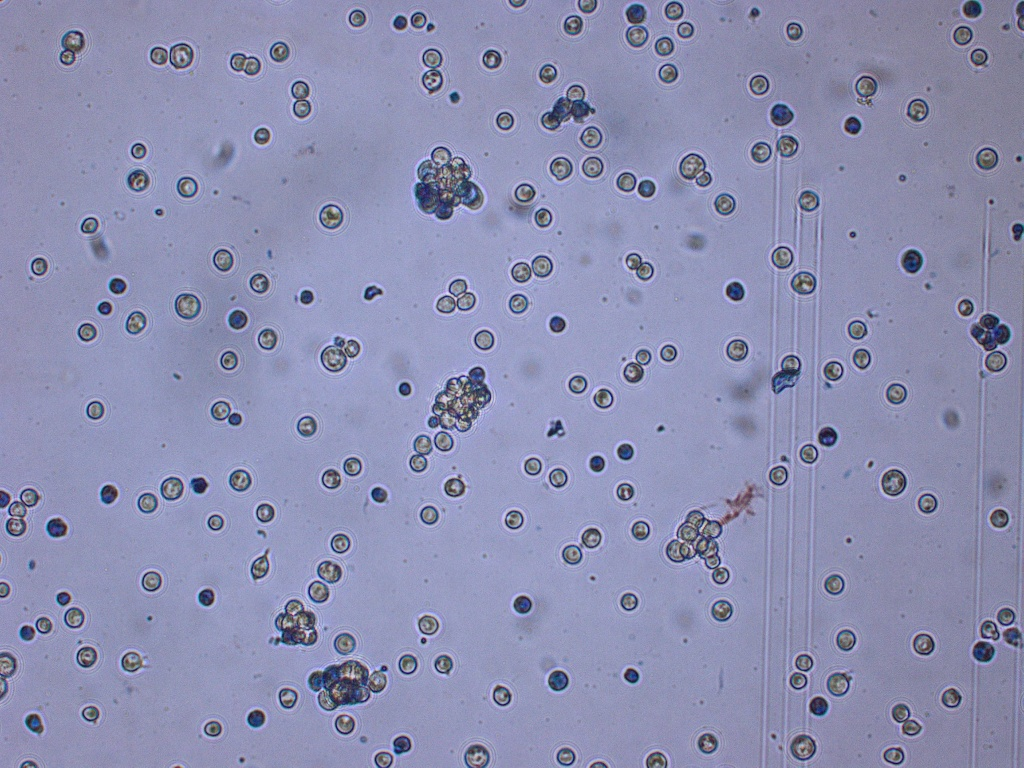Aggregate: (411, 144, 486, 222), (426, 366, 493, 433), (308, 660, 387, 714), (662, 507, 725, 568), (274, 598, 320, 649), (539, 97, 596, 131)
Alive: (320, 346, 346, 372), (790, 735, 816, 760), (882, 469, 906, 496), (169, 43, 193, 69), (175, 294, 201, 318), (679, 154, 703, 178), (161, 476, 185, 500), (791, 270, 814, 295), (319, 204, 342, 228), (770, 246, 794, 269), (827, 672, 850, 696), (625, 24, 648, 47), (725, 339, 749, 361), (127, 170, 150, 192), (976, 148, 999, 170), (229, 469, 252, 491), (582, 156, 604, 178), (465, 746, 488, 767), (421, 48, 443, 69), (750, 141, 771, 163), (714, 192, 735, 214), (797, 189, 819, 210), (985, 351, 1007, 372), (330, 533, 352, 554), (126, 310, 146, 333), (914, 634, 934, 657), (856, 76, 878, 96), (907, 100, 929, 120), (76, 646, 96, 668), (335, 633, 355, 655), (308, 581, 330, 601), (778, 135, 797, 158), (317, 562, 341, 580), (215, 247, 232, 272), (63, 29, 83, 50), (481, 49, 502, 69), (582, 127, 603, 147), (823, 361, 843, 382), (712, 599, 732, 620), (433, 431, 454, 451), (418, 615, 439, 635), (552, 157, 571, 179), (121, 652, 143, 671), (278, 687, 297, 709), (563, 545, 583, 565), (491, 685, 511, 705), (886, 383, 905, 404), (837, 630, 856, 651), (582, 526, 601, 547), (65, 607, 84, 628), (259, 327, 276, 350), (370, 669, 387, 692), (177, 178, 197, 197), (532, 256, 552, 275), (953, 25, 972, 45), (941, 687, 961, 706), (138, 493, 158, 512), (335, 714, 355, 733), (699, 734, 719, 753), (422, 71, 443, 89), (624, 362, 642, 383), (251, 556, 269, 577), (513, 184, 536, 200), (150, 46, 169, 65), (78, 322, 97, 341), (298, 417, 317, 436), (749, 75, 768, 94), (505, 510, 524, 529), (549, 469, 568, 488), (420, 505, 439, 524), (435, 654, 454, 673), (475, 330, 493, 350), (617, 172, 635, 192), (919, 493, 937, 513), (824, 576, 844, 594), (892, 703, 910, 723), (594, 388, 612, 408), (322, 469, 340, 489), (445, 479, 466, 496), (645, 752, 667, 768), (1, 652, 16, 675), (457, 291, 475, 310), (665, 2, 684, 20), (659, 64, 678, 82), (903, 718, 922, 736), (619, 593, 639, 610), (221, 350, 237, 371), (566, 15, 582, 36), (883, 748, 904, 764), (7, 519, 28, 535), (854, 349, 869, 371), (30, 257, 48, 275), (270, 42, 288, 60), (211, 401, 229, 419), (437, 295, 455, 313), (509, 294, 527, 312), (656, 37, 674, 55), (796, 653, 814, 671), (770, 466, 788, 484), (630, 522, 648, 540), (256, 503, 274, 521), (229, 51, 246, 70), (512, 262, 529, 281), (533, 209, 552, 226), (538, 65, 557, 82), (414, 435, 431, 454), (143, 571, 160, 590), (399, 655, 416, 674), (557, 747, 576, 764), (344, 457, 360, 477), (34, 617, 54, 633), (782, 354, 802, 370), (293, 100, 311, 117), (497, 111, 515, 128), (970, 48, 987, 66), (849, 321, 866, 339), (617, 482, 634, 500), (409, 454, 427, 471), (251, 275, 270, 291), (800, 444, 816, 463), (349, 9, 366, 26), (713, 567, 730, 584), (998, 607, 1014, 625), (88, 400, 103, 419), (638, 262, 653, 281), (203, 721, 223, 735), (990, 510, 1006, 527), (524, 458, 540, 475), (569, 376, 586, 392), (659, 345, 676, 361), (345, 339, 360, 357), (981, 621, 997, 637), (790, 672, 806, 688), (208, 514, 224, 530), (253, 128, 270, 143), (21, 489, 38, 504), (448, 280, 466, 294), (248, 57, 261, 76), (293, 79, 308, 95), (577, 1, 597, 13), (83, 705, 98, 721), (696, 171, 710, 188), (82, 218, 98, 232), (60, 50, 76, 64), (678, 23, 694, 37), (376, 751, 390, 767), (787, 22, 800, 39), (626, 253, 641, 267), (957, 299, 970, 315), (634, 350, 650, 363), (131, 142, 145, 156), (412, 13, 426, 27), (10, 501, 24, 515), (570, 84, 582, 98), (1, 579, 10, 595)
Dead: (772, 372, 801, 393), (769, 103, 793, 125), (625, 3, 646, 24), (973, 641, 994, 662), (570, 99, 591, 120), (24, 713, 45, 733), (548, 670, 568, 691), (903, 250, 922, 272), (1003, 626, 1023, 646), (46, 518, 67, 536), (726, 281, 745, 300), (819, 426, 837, 446), (229, 309, 246, 330), (100, 483, 117, 503), (513, 595, 533, 612), (198, 588, 216, 606), (809, 698, 829, 714), (996, 322, 1011, 343), (247, 709, 265, 726), (394, 735, 411, 753), (109, 277, 126, 294), (548, 315, 565, 332), (963, 1, 982, 16), (308, 671, 322, 691), (845, 116, 860, 134), (981, 312, 999, 327), (623, 668, 640, 683), (617, 445, 634, 460), (639, 178, 653, 196), (20, 625, 35, 641), (589, 456, 604, 472), (364, 285, 381, 299), (371, 486, 386, 501), (191, 477, 205, 493), (56, 591, 71, 605), (298, 289, 314, 302), (394, 15, 407, 29), (98, 300, 111, 313), (400, 381, 410, 395)
